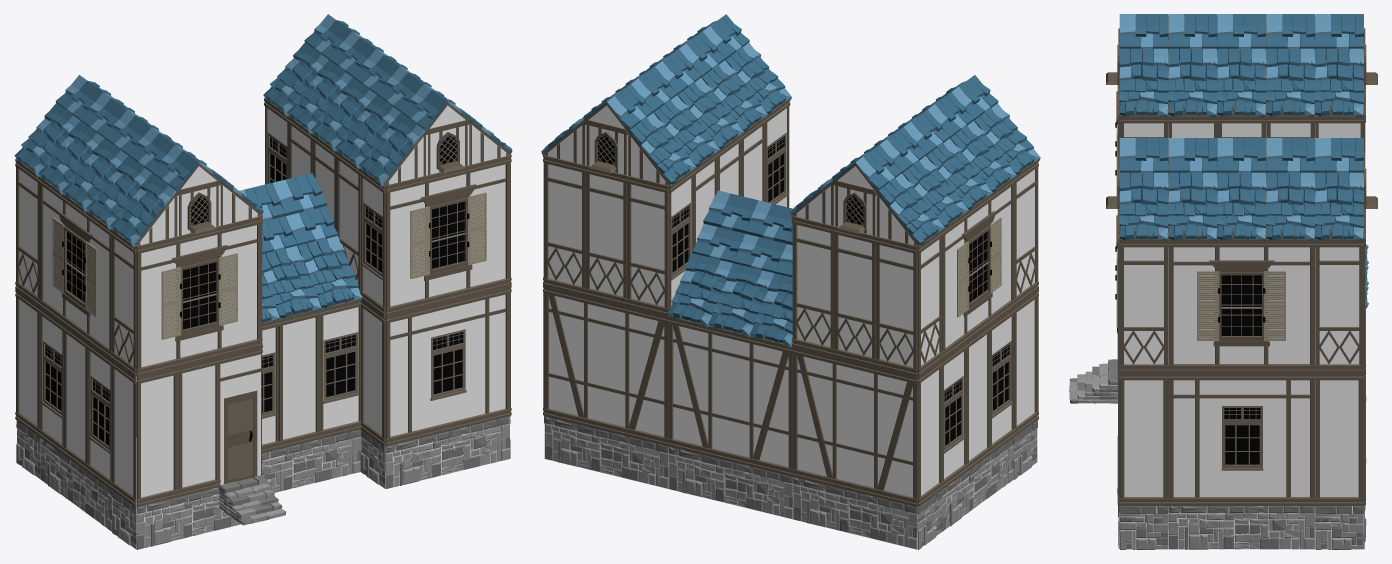
The model's file is House_10_full.glb.
3 views of the same model, side by side, from view 1: azimuth 30°, elevation 25°; view 2: azimuth 150°, elevation 25°; view 3: azimuth 270°, elevation 25° (orthographic). The views are drawn at different scales.
Parts seen in each view (by area): view 1: WINDOW_07_3, WINDOW_07_6, WINDOW_03_2, WINDOW_07_4, WALL_03_4, WALL_03_9, WALL_03_3, FOUNDATION_02_25, DOOR_01_3, WINDOW_04_6, FOUNDATION_02_24, FOUNDATION_02_26 (+53 smaller); view 2: WALL_02_3, WALL_02_2, WALL_02_4, WINDOW_07_4, WALL_01_4, WALL_01_16, WALL_01_10, WALL_01_5, WALL_01_3, WALL_01_15, FOUNDATION_02_29, FOUNDATION_02_28 (+51 smaller); view 3: WINDOW_07_5, WINDOW_03_3, WALL_01_11, WALL_03_11, WALL_01_9, WALL_03_12, FOUNDATION_02_31, ROOF_base_3, ROOF_base_13, ROOF_base_5, ROOF_base_15, ROOF_base_4 (+25 smaller).
Boxes of the visible parts, box(x1,y1,x2,y2) form: WINDOW_07_3: box(136, 216, 262, 376); WINDOW_07_6: box(385, 155, 510, 316); WINDOW_03_2: box(385, 286, 510, 446); WINDOW_07_4: box(39, 176, 111, 358); WALL_03_4: box(136, 367, 179, 506); WALL_03_9: box(278, 310, 320, 448); WALL_03_3: box(178, 357, 220, 496); FOUNDATION_02_25: box(385, 416, 509, 488); DOOR_01_3: box(220, 347, 261, 484); WINDOW_04_6: box(320, 300, 361, 438); FOUNDATION_02_24: box(261, 429, 361, 492); FOUNDATION_02_26: box(136, 487, 241, 549); WALL_02_3: box(668, 315, 792, 476); WALL_02_2: box(792, 346, 917, 506); WALL_02_4: box(543, 286, 668, 446); WINDOW_07_4: box(942, 178, 1015, 358); WALL_01_4: box(875, 236, 917, 376); WALL_01_16: box(626, 175, 668, 316); WALL_01_10: box(543, 155, 585, 295); WALL_01_5: box(792, 216, 834, 356); WALL_01_3: box(833, 226, 875, 366); WALL_01_15: box(585, 165, 627, 305); FOUNDATION_02_29: box(669, 446, 793, 519); FOUNDATION_02_28: box(793, 477, 917, 549); WINDOW_07_5: box(1168, 239, 1315, 372); WINDOW_03_3: box(1168, 373, 1315, 505); WALL_01_11: box(1119, 239, 1168, 372); WALL_03_11: box(1119, 373, 1168, 505); WALL_01_9: box(1315, 239, 1363, 372); WALL_03_12: box(1315, 373, 1363, 505); FOUNDATION_02_31: box(1168, 506, 1315, 549); ROOF_base_3: box(1119, 48, 1168, 117); ROOF_base_13: box(1119, 172, 1168, 241); ROOF_base_5: box(1217, 48, 1266, 117); ROOF_base_15: box(1217, 172, 1266, 241); ROOF_base_4: box(1168, 48, 1217, 117).
Bounding box in the file's own units: 9.2 × 8.59 × 6.31.
1 material, 1 textured.
